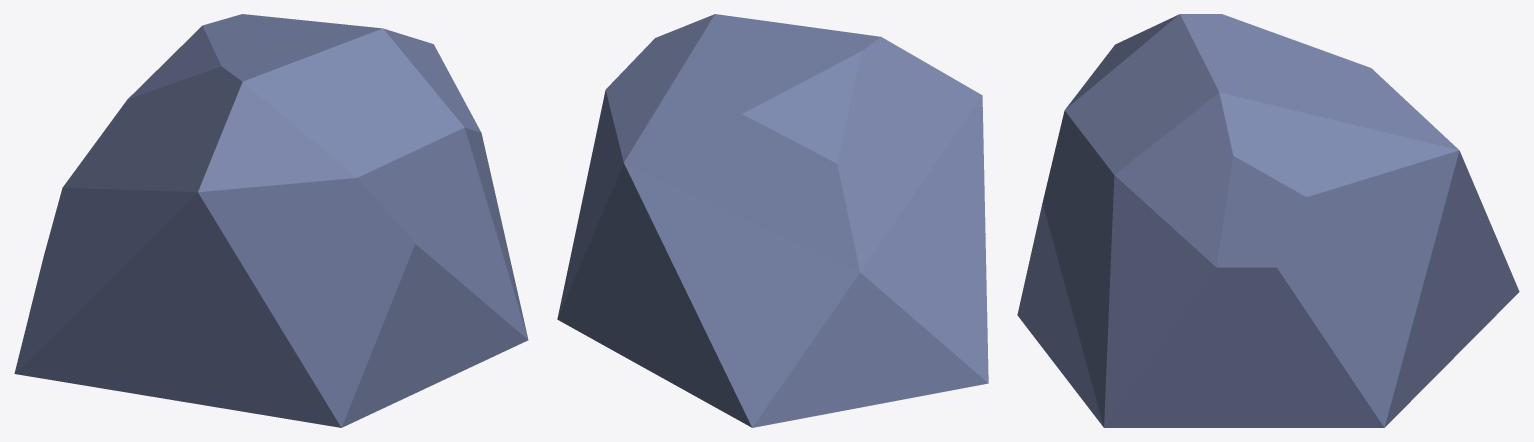
Rendered from Rock Granit 04.fbx.
3 renders of one model, left to right at view 1: azimuth 30°, elevation 25°; view 2: azimuth 150°, elevation 25°; view 3: azimuth 270°, elevation 25°, orthographic. The views are drawn at different scales.
Parts seen in each view (by area): view 1: Rock Granit 04; view 2: Rock Granit 04; view 3: Rock Granit 04.
Part boxes in pixels (x1=…): Rock Granit 04: x1=14, y1=14, x2=528, y2=427; Rock Granit 04: x1=557, y1=14, x2=988, y2=427; Rock Granit 04: x1=1017, y1=14, x2=1519, y2=427.
Bounding box in the file's own units: 149 × 96.95 × 151.
